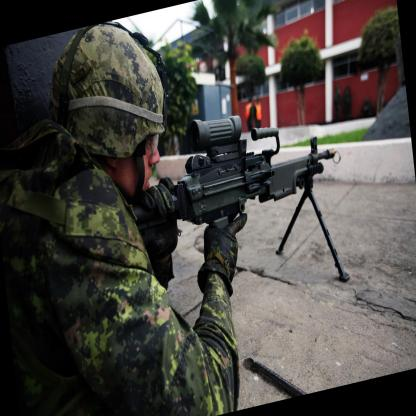rifle: (115, 93, 345, 260)
